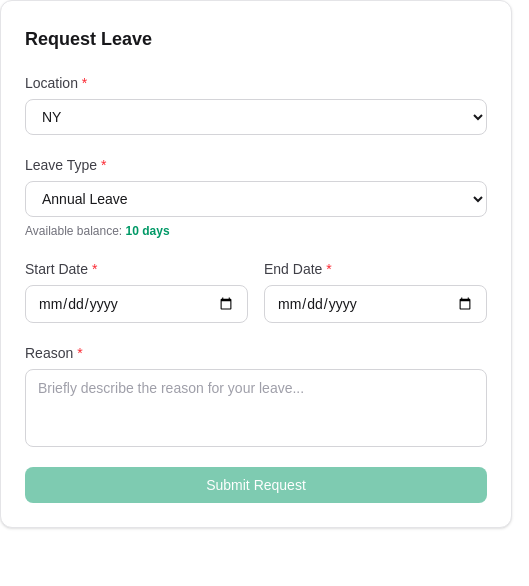
Test: LeaveRequestForm — days calculation › shows duration when valid start and end dates are entered
Type "2026-09-01" into the date field labelled "Start Date *" at (136, 304), box x1=25 y1=285 x2=248 y2=323
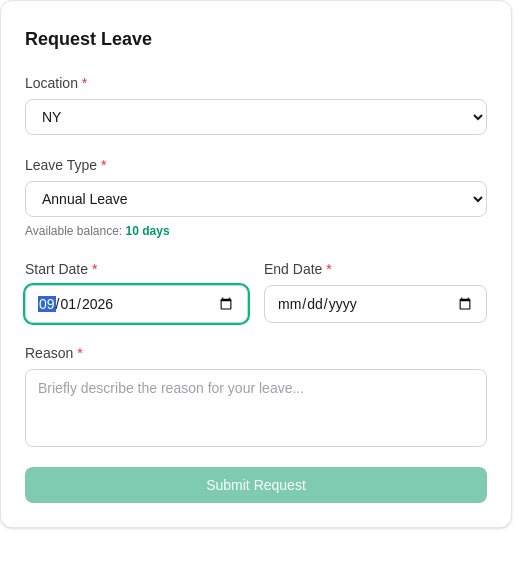
Type "2026-09-05" into the date field labelled "End Date *" at (376, 304), box x1=264 y1=285 x2=487 y2=323
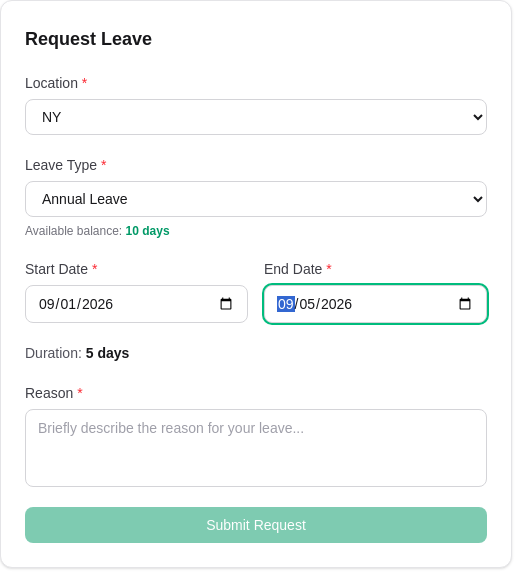
expect the text "5 days" is shown: met, box x1=86 y1=345 x2=129 y2=361
